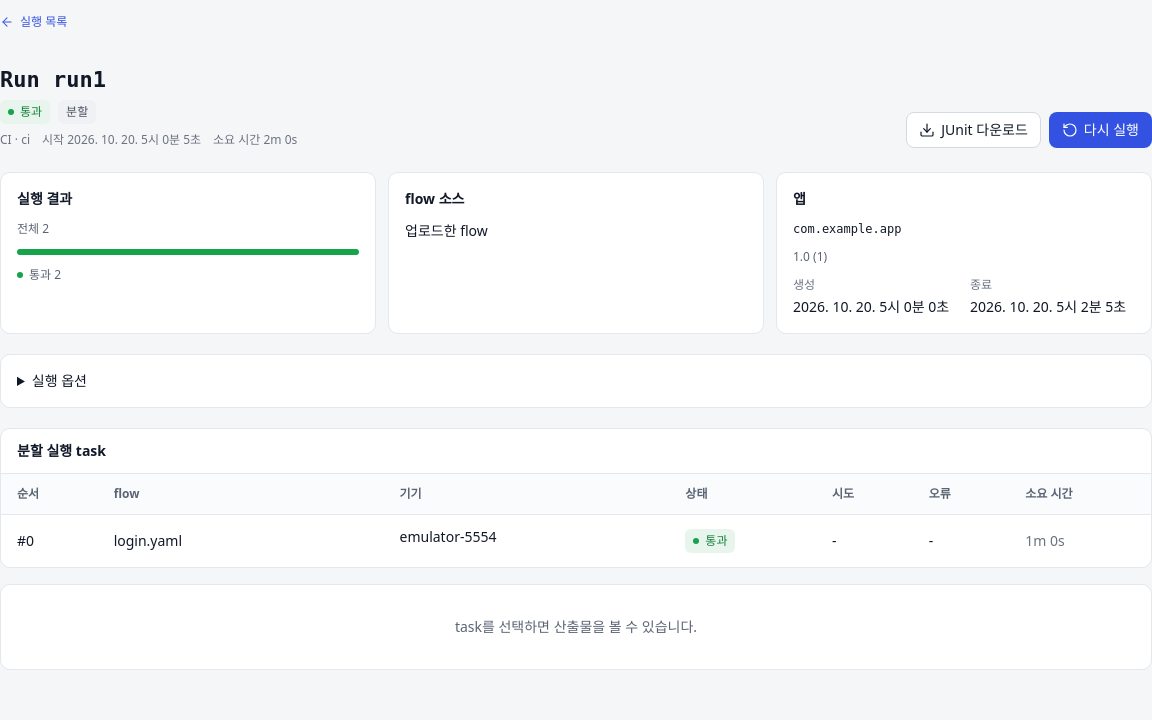
Test: renders all run options and masks env values even if an unmasked value arrives
Check: the heading "Run run1" is shown, box [0, 67, 106, 92]
What coordinates should you click on to do the following:
click the heading "실행 옵션"
I would click on:
 (59, 380)
Its box is [32, 371, 87, 390].
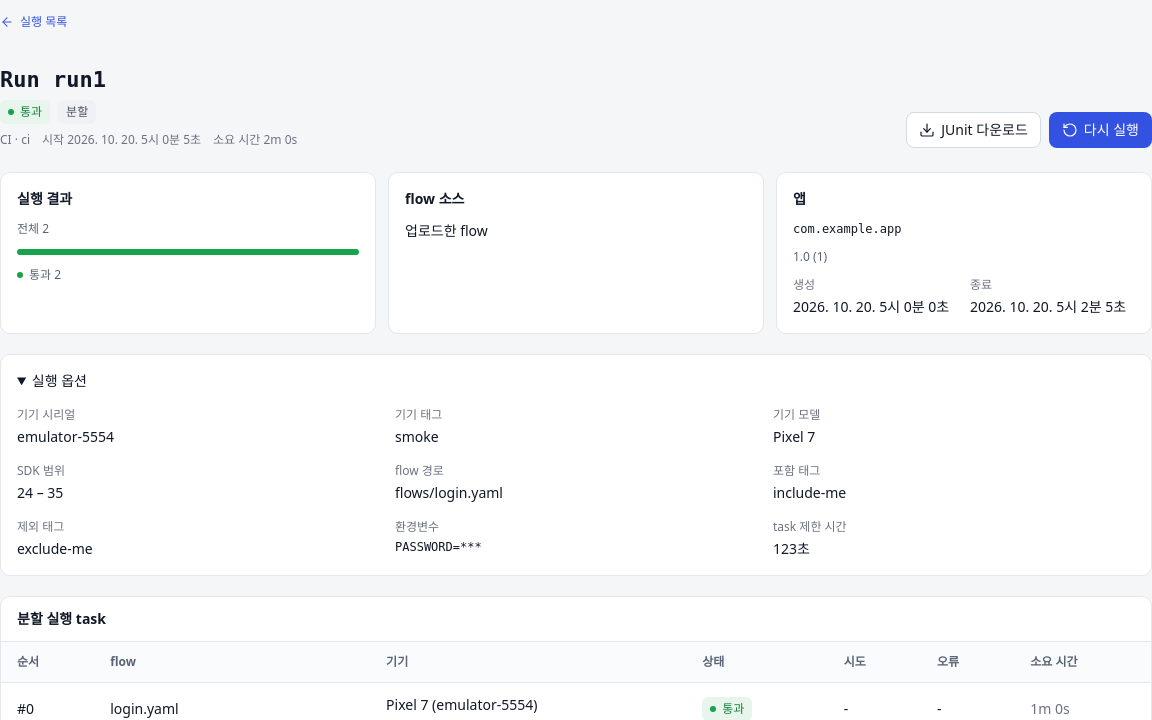
Check: the text "flows/login.yaml" is shown, box [395, 483, 503, 502]
Check: the text "PASSWORD=***" is shown, box [395, 540, 482, 554]
Check: the text "include-me" is shown, box [773, 483, 846, 502]
